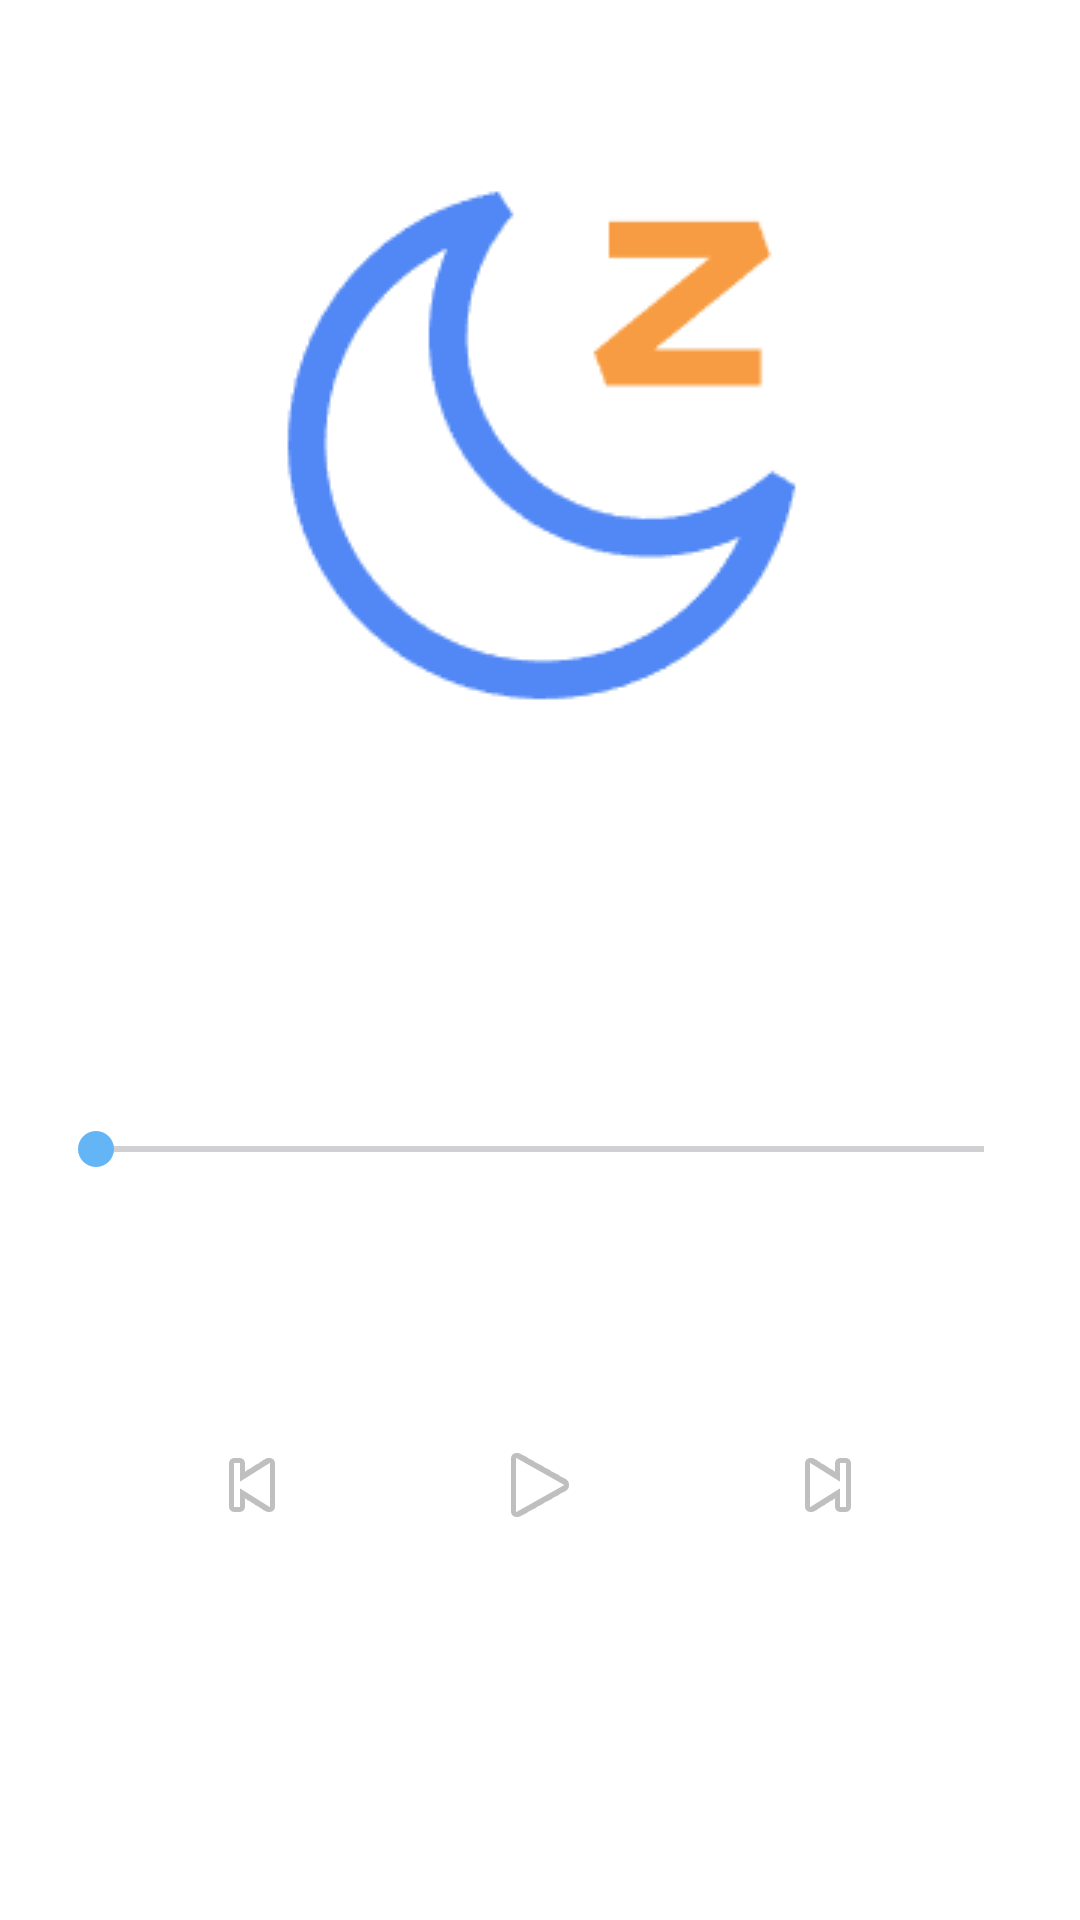

Where icons sit on this 1080w x 1920h app screen, as (x1, y1, x2, y2):
Forward: (805, 1458, 851, 1512)
Play/Pause: (511, 1453, 569, 1517)
